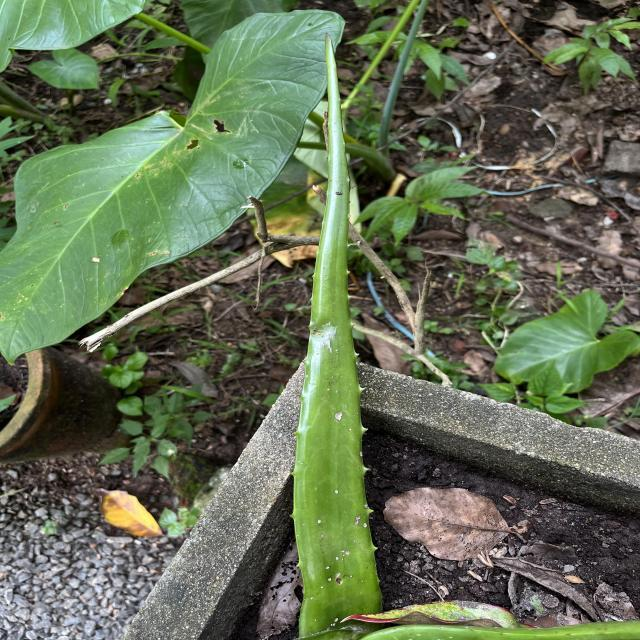Aloe vera: (286, 28, 394, 626)
